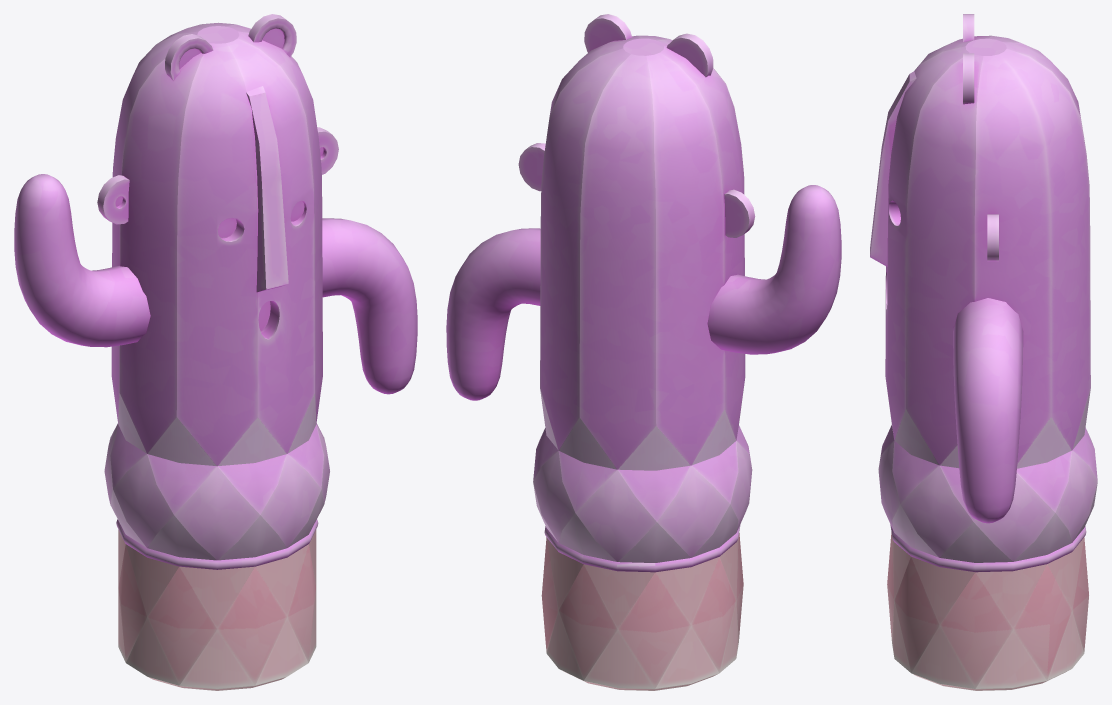
The model's file is haniwa.fbx.
3 views of the same model, side by side, from view 1: azimuth 30°, elevation 25°; view 2: azimuth 150°, elevation 25°; view 3: azimuth 270°, elevation 25° (orthographic). The views are drawn at different scales.
Visible parts, largest first — view 1: Circle.001; view 2: Circle.001; view 3: Circle.001.
Boxes of the visible parts, x1=… form: Circle.001: x1=14, y1=14, x2=417, y2=690; Circle.001: x1=446, y1=14, x2=841, y2=690; Circle.001: x1=870, y1=14, x2=1097, y2=690.
Size of the model in its own units: 54.17 by 82.76 by 27.56.
Materials: 1 (1 with a texture image).
